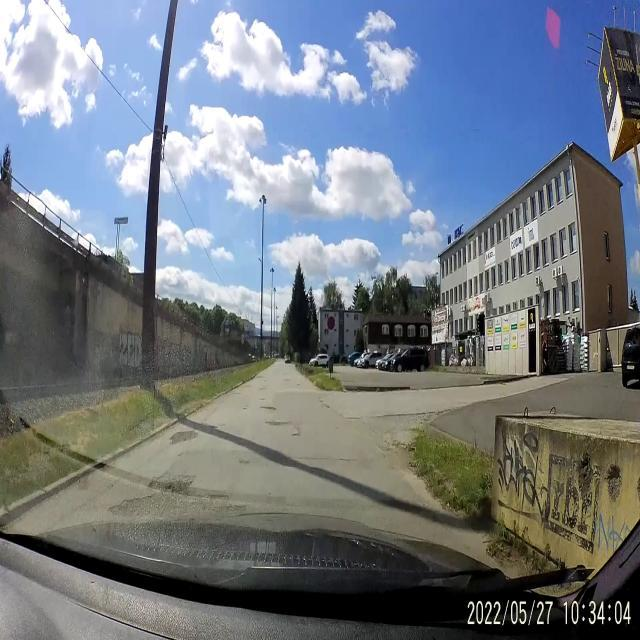Pothole: (104, 492, 241, 514), (149, 474, 196, 489), (168, 428, 202, 444), (266, 416, 296, 430), (258, 404, 277, 414), (290, 432, 304, 444), (238, 457, 250, 468)
